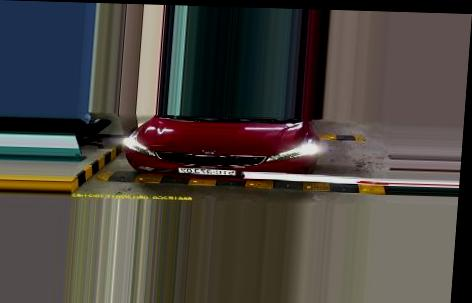License_Plate: (175, 165, 237, 180)
